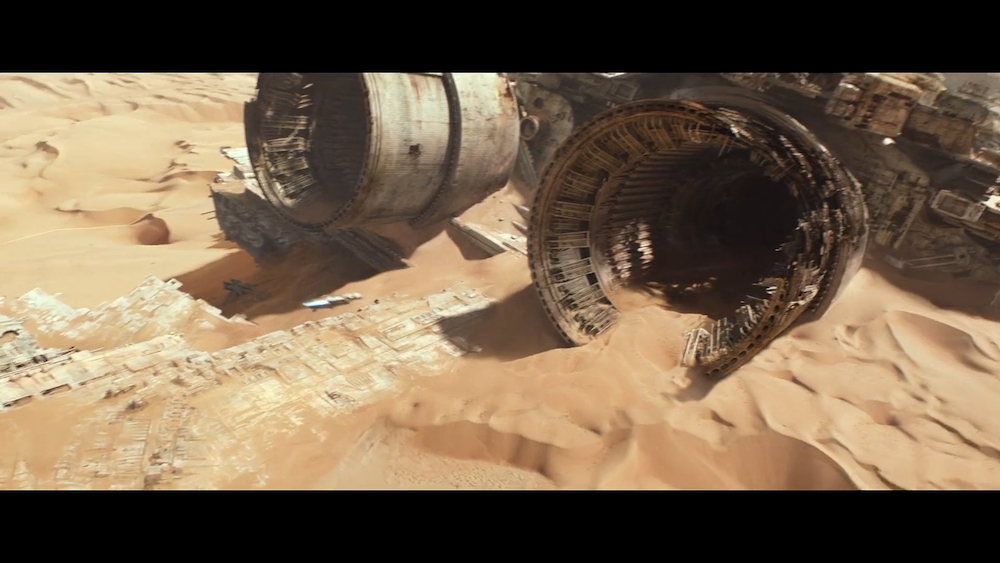Millennium Falcon: (304, 292, 364, 312)
